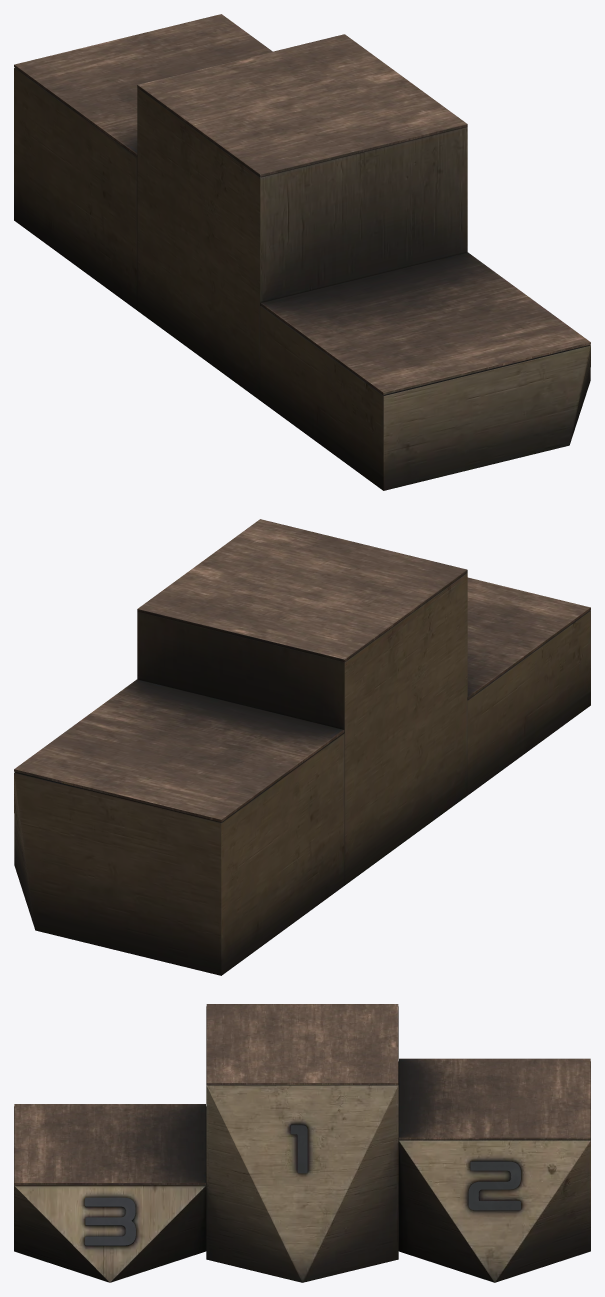
The model's file is Podium.glb.
3 renders of one model, top to bottom at view 1: azimuth 30°, elevation 25°; view 2: azimuth 150°, elevation 25°; view 3: azimuth 270°, elevation 25°, orthographic. The views are drawn at different scales.
Visible parts, largest first — view 1: Leaderboard.Body, Leaderboard.TopPlate; view 2: Leaderboard.Body, Leaderboard.TopPlate; view 3: Leaderboard.Body, Leaderboard.TopPlate, Leaderboard.Chiffre.
Part boxes in pixels (<box>): Leaderboard.Body: <box>14,68,590,490</box>; Leaderboard.TopPlate: <box>14,14,590,395</box>; Leaderboard.Body: <box>14,572,590,975</box>; Leaderboard.TopPlate: <box>14,519,590,822</box>; Leaderboard.Body: <box>14,1006,590,1282</box>; Leaderboard.TopPlate: <box>14,1004,590,1184</box>; Leaderboard.Chiffre: <box>84,1124,520,1245</box>.
Bounding box in the file's own units: 1.27 × 1.02 × 3.02.
3 materials, 3 textured.
